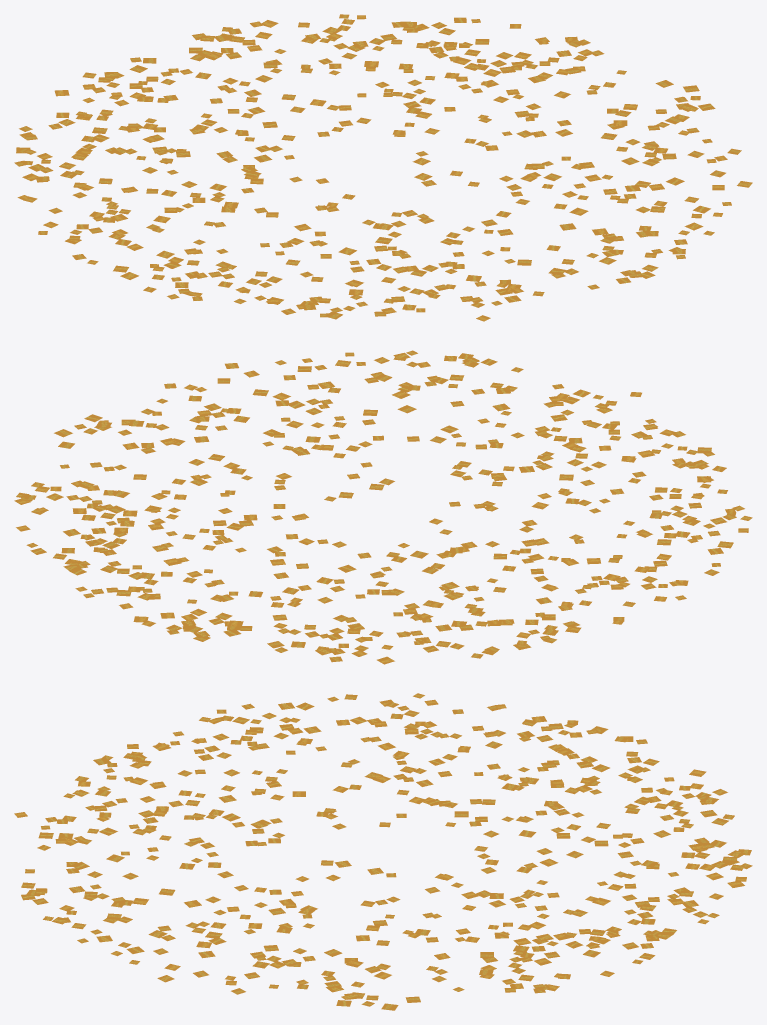
File: saule_vieux_a.fbx
The picture shows the model from 3 angles, top to bottom: view 1: azimuth 30°, elevation 25°; view 2: azimuth 150°, elevation 25°; view 3: azimuth 270°, elevation 25°; orthographic projection.
Visible parts, largest first — view 1: saule_vieux_a_feuilles_sol; view 2: saule_vieux_a_feuilles_sol; view 3: saule_vieux_a_feuilles_sol.
Boxes of the visible parts, x1=… form: saule_vieux_a_feuilles_sol: x1=14, y1=14, x2=752, y2=321; saule_vieux_a_feuilles_sol: x1=14, y1=350, x2=752, y2=664; saule_vieux_a_feuilles_sol: x1=14, y1=693, x2=752, y2=1010.
Size of what is drawn, in the model's own units: 24.12 by 0.00599 by 23.71.
